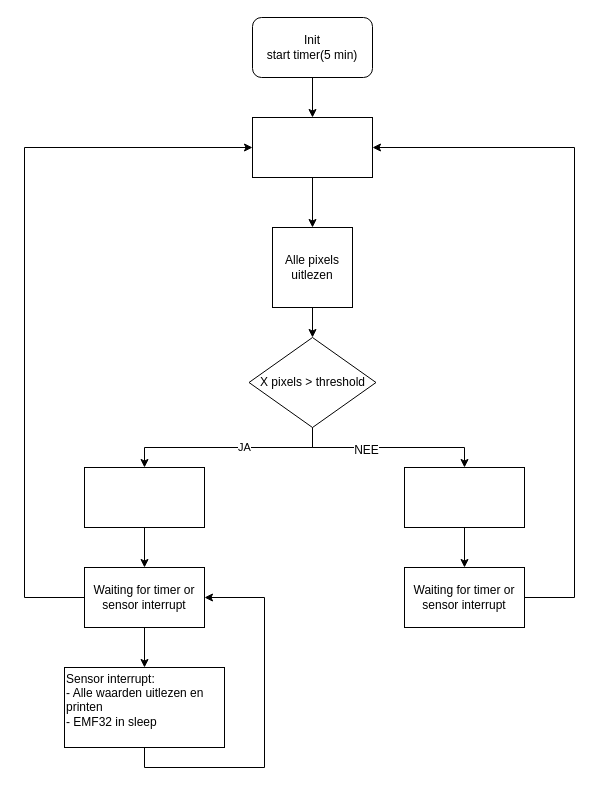
This 600x793 diagram has some shape labels left out. Here are the shapes that lost their labels. From the top down, the centre of each, then its label:
At point (312, 147): "Timerinterrupt: - Sensor in stand-by".
At point (144, 497): "- Sensor in stand-by - EMF32 in sleep".
At point (464, 497): "- Sensor in sleep - EMF32 in sleep".
